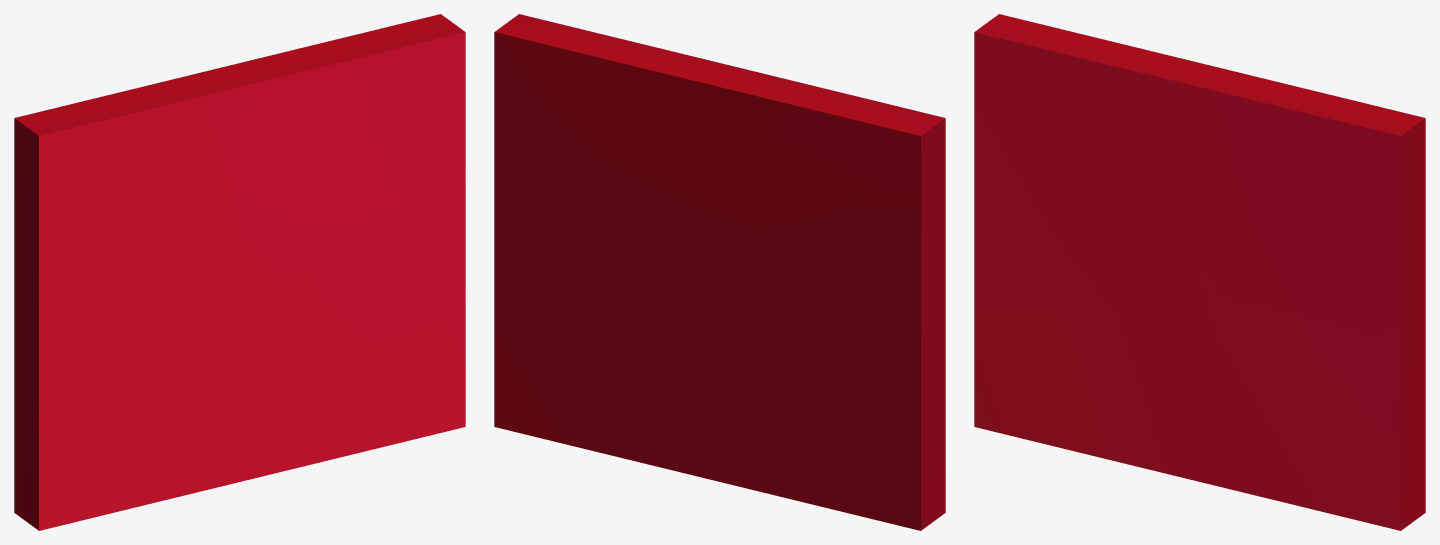
3 views of the same model, side by side, from view 1: azimuth 30°, elevation 25°; view 2: azimuth 150°, elevation 25°; view 3: azimuth 330°, elevation 25° (orthographic).
Visible parts, largest first — view 1: buttonRedSquareLarge; view 2: buttonRedSquareLarge; view 3: buttonRedSquareLarge.
Part boxes in pixels (bbox=[...]): buttonRedSquareLarge: bbox=[14, 14, 465, 530]; buttonRedSquareLarge: bbox=[494, 14, 945, 530]; buttonRedSquareLarge: bbox=[974, 14, 1425, 530].
Size of what is drawn, in the model's own units: 0.3096 by 0.2739 by 0.0311.
Materials: 1 (1 with a texture image).
